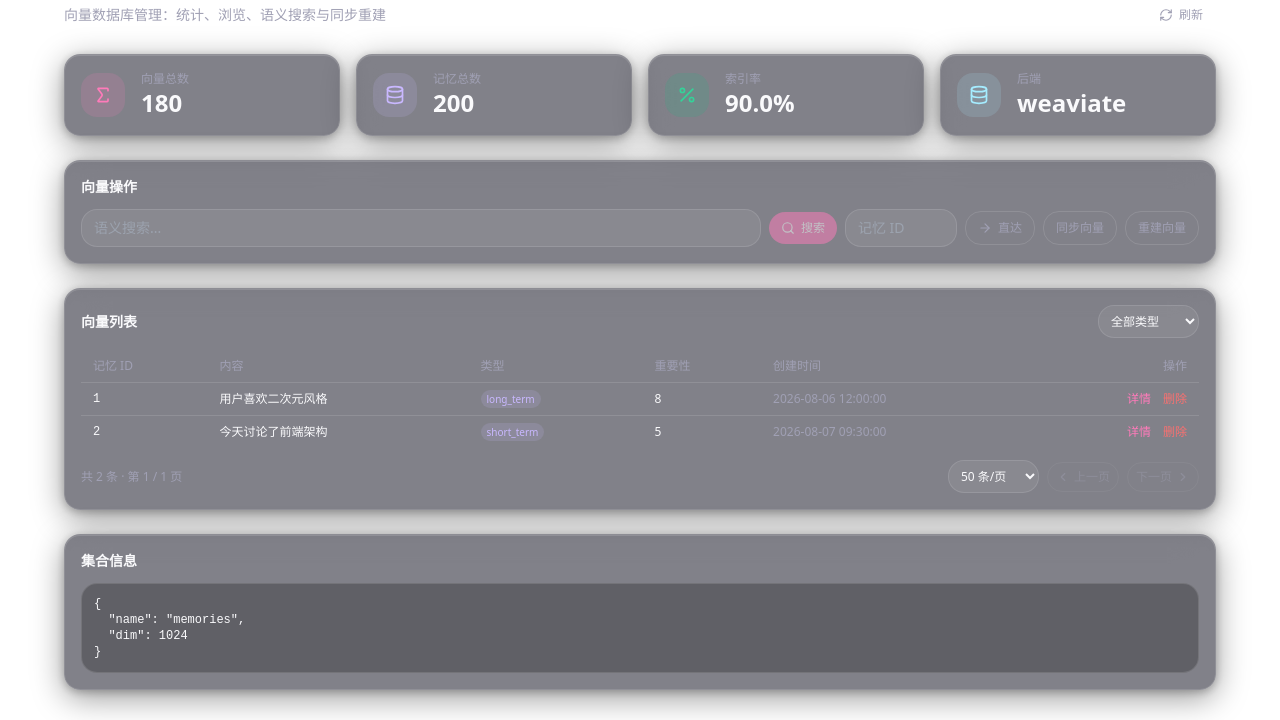
VectorDataPage 向量数据页 › 语义搜索打开结果弹窗（含相似度徽章）
The width and height of the screenshot is (1280, 720).
Expected: the text "用户喜欢二次元风格" is shown, [208,382,469,416]
Type "二次元" into the field labelled "语义搜索..." at (421,228), box [81,209,761,247]
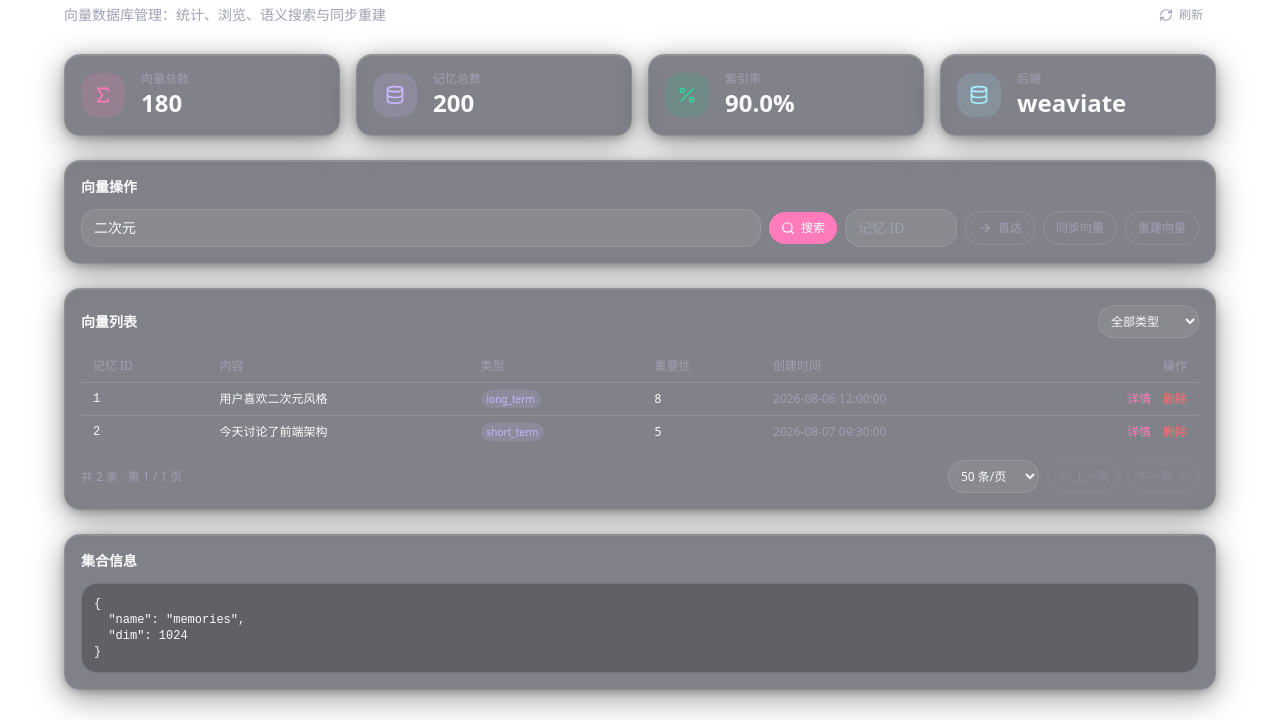
Click the button "搜索" at (803,228), box [769,212,837,244]
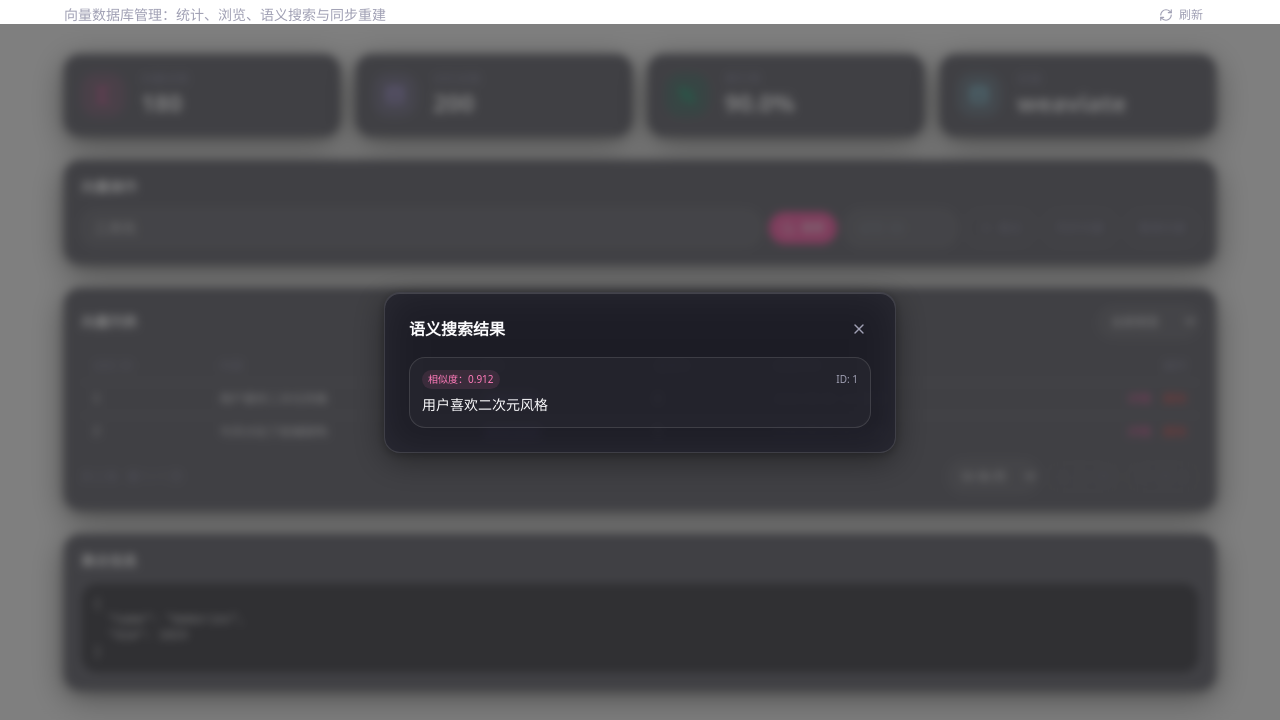
Result: the heading "语义搜索结果" is shown at [409,316,505,340]
Result: the text "相似度：0.912" is shown at [422,370,500,388]
